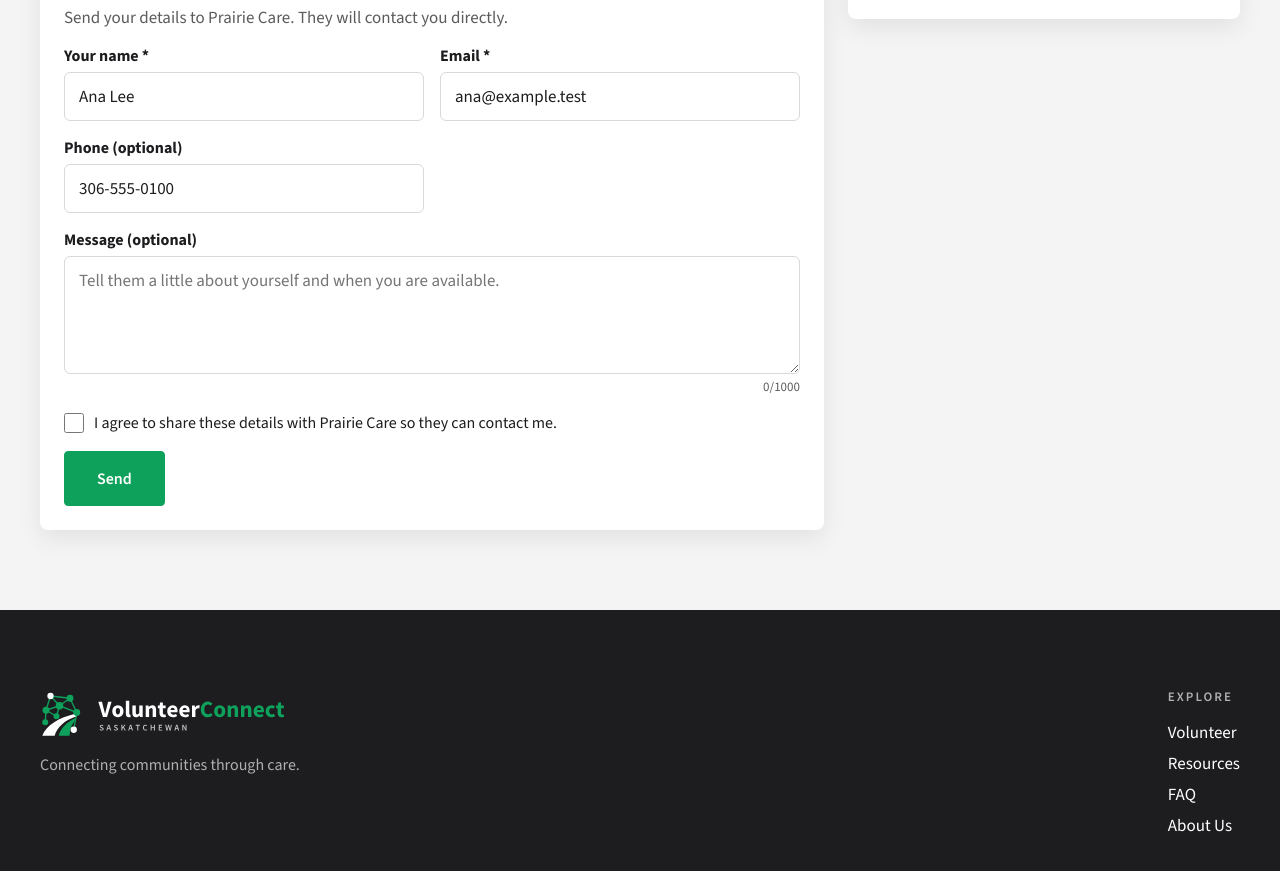
Test: fills in a signed-in volunteer and explains when sending fails
(page scrolled)
Expected: the field labelled "Your name *" holds "Ana Lee", [64,72,424,121]
Expected: the field labelled "Email *" holds "ana@example.test", [440,72,800,121]
Click the checkbox labelled "share these details": (74, 423) [64,413,84,433]
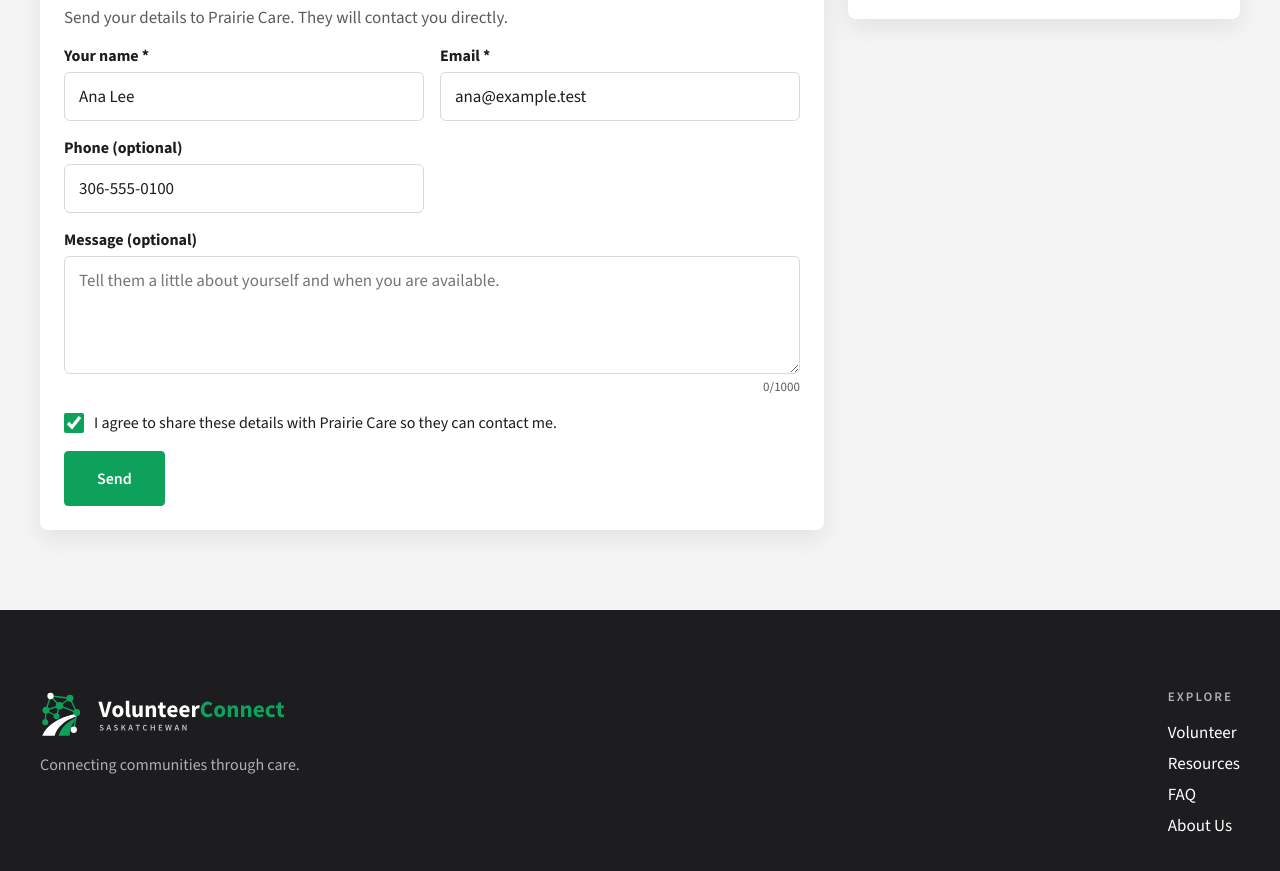
Click the button "Send": (114, 478) [64,451,165,506]
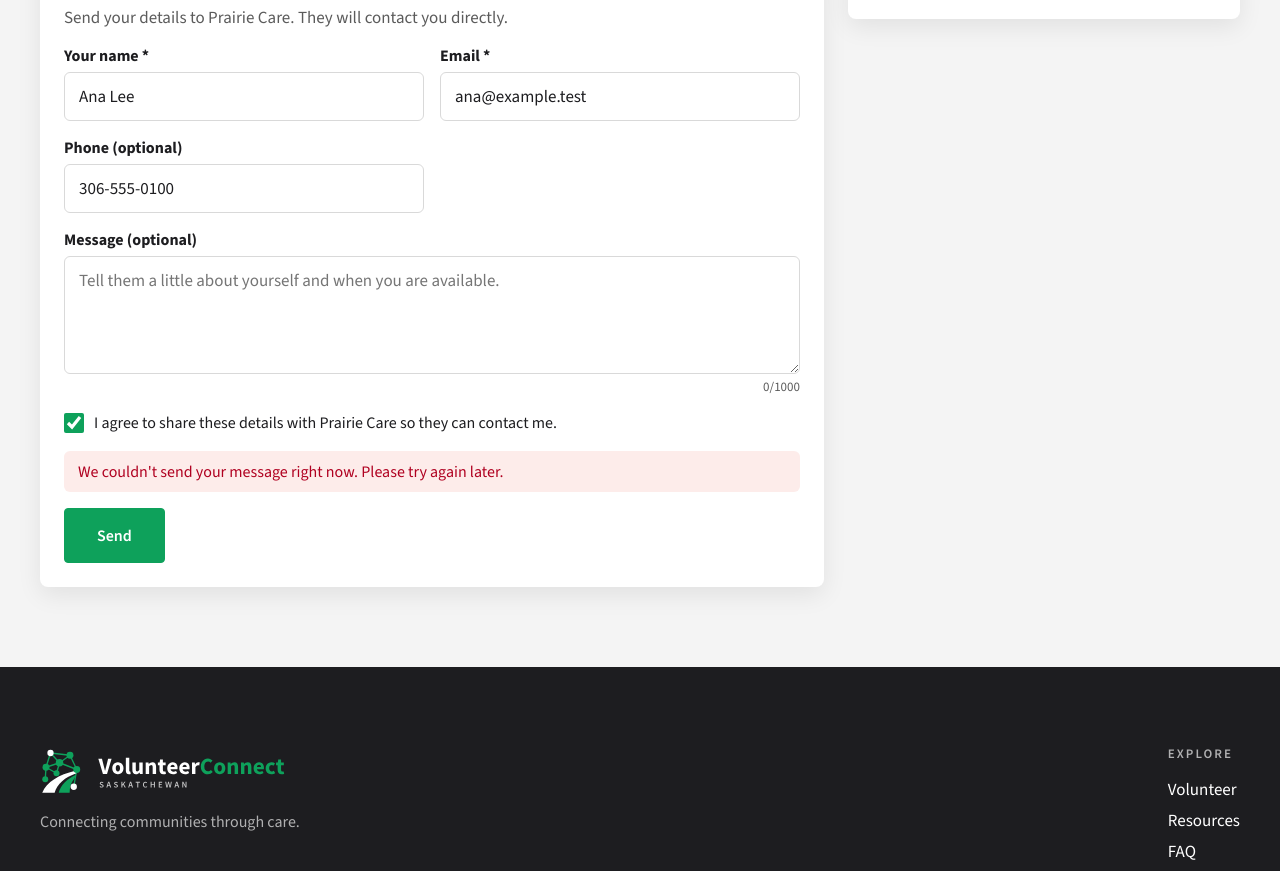
Expected: the message shows "We couldn't send your message right now.", [78,461,504,482]
